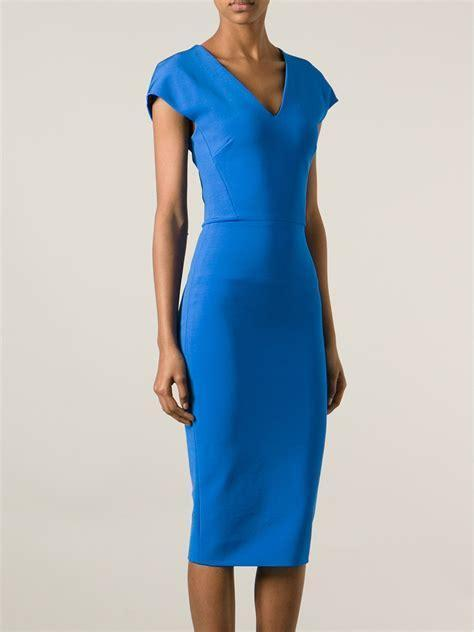dress: (145, 45, 340, 566)
